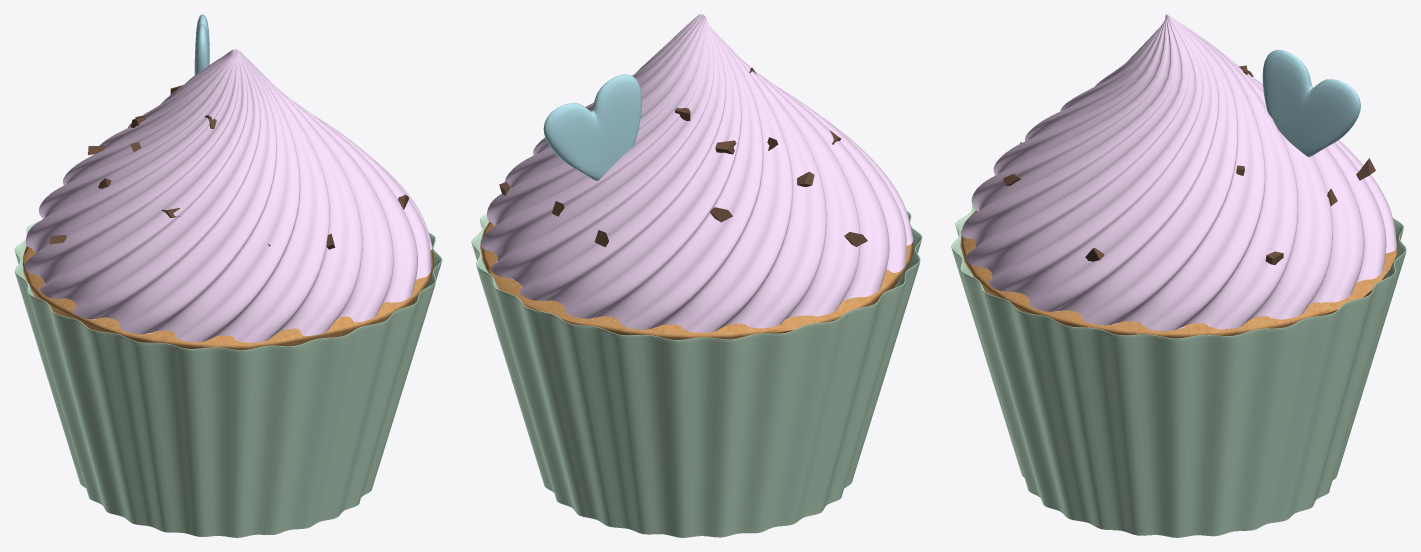
File: muffin4.fbx
3 views of the same model, side by side, from view 1: azimuth 30°, elevation 25°; view 2: azimuth 150°, elevation 25°; view 3: azimuth 270°, elevation 25° (orthographic). The views are drawn at different scales.
Visible parts, largest first — view 1: pCylinder28; view 2: pCylinder28; view 3: pCylinder28.
Boxes of the visible parts, bbox=[...] form: pCylinder28: bbox=[14, 14, 442, 537]; pCylinder28: bbox=[471, 14, 922, 537]; pCylinder28: bbox=[951, 14, 1406, 537].
Size of the model in its own units: 211 by 235 by 212.
Materials: 1 (1 with a texture image).
